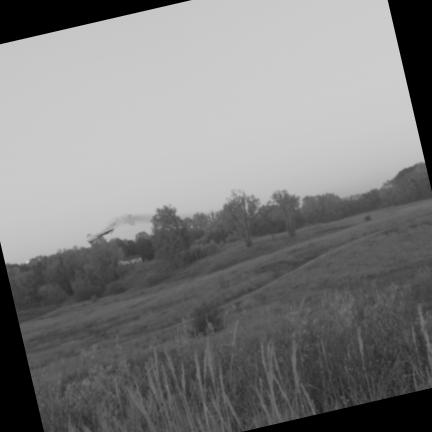Shahed: (87, 223, 125, 244), (127, 215, 135, 225)
